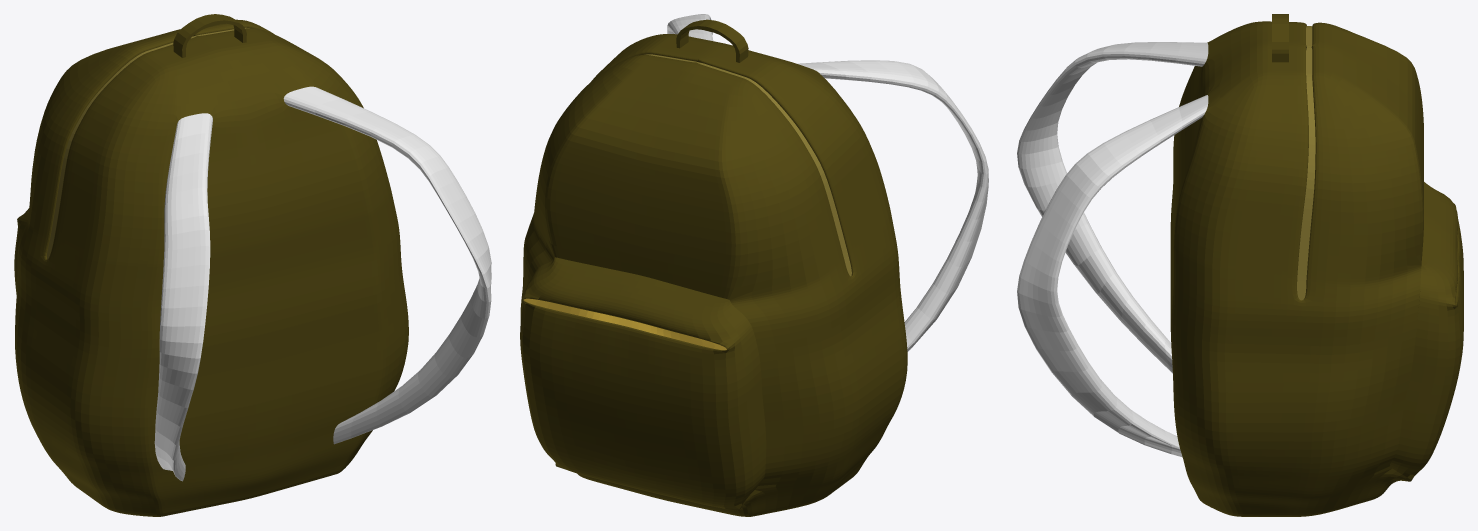
Rendered from Player_Bag.fbx.
3 renders of one model, left to right at view 1: azimuth 30°, elevation 25°; view 2: azimuth 150°, elevation 25°; view 3: azimuth 270°, elevation 25°, orthographic.
Visible parts, largest first — view 1: Cube, Cube.005, Cube.004, Cube.003; view 2: Cube, Cube.001, Cube.005, Cube.002, Cube.003, Cube.004; view 3: Cube, Cube.005, Cube.001, Cube.003, Cube.004.
Boxes of the visible parts, x1,y1,x2,y2 form: Cube: (15, 19, 408, 516); Cube.005: (154, 86, 491, 481); Cube.004: (173, 14, 246, 57); Cube.003: (47, 27, 249, 259); Cube: (520, 34, 907, 516); Cube.001: (520, 257, 766, 510); Cube.005: (667, 14, 988, 351); Cube.002: (524, 298, 726, 350); Cube.003: (644, 54, 851, 276); Cube.004: (676, 19, 748, 62); Cube: (1170, 21, 1423, 516); Cube.005: (1017, 42, 1208, 457); Cube.001: (1390, 182, 1463, 480); Cube.003: (1297, 26, 1315, 300); Cube.004: (1272, 14, 1288, 62).
Bounding box in the file's own units: 30.41 × 39.39 × 35.72.
